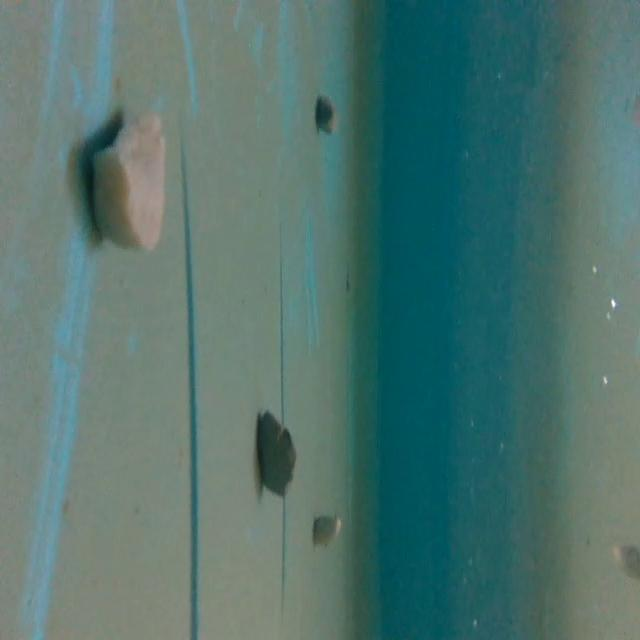rock: (88, 112, 180, 259), (258, 400, 300, 505), (310, 510, 342, 550), (315, 94, 338, 140)
